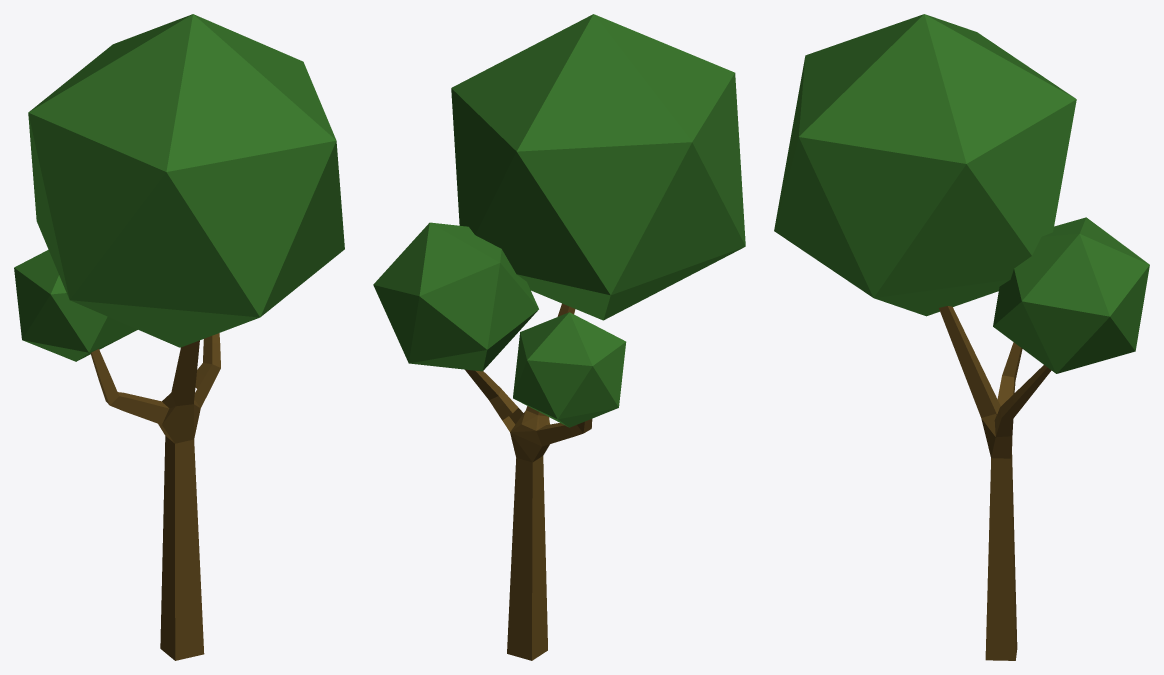
The model's file is TREE1.fbx.
3 renders of one model, left to right at view 1: azimuth 30°, elevation 25°; view 2: azimuth 150°, elevation 25°; view 3: azimuth 270°, elevation 25°, orthographic. The views are drawn at different scales.
Visible parts, largest first — view 1: Icosphere.013, Cube.002, Icosphere.014; view 2: Icosphere.013, Icosphere.012, Cube.002, Icosphere.014; view 3: Icosphere.013, Icosphere.012, Cube.002.
Boxes of the visible parts, x1=… form: Icosphere.013: x1=28, y1=14, x2=344, y2=347; Cube.002: x1=90, y1=333, x2=220, y2=660; Icosphere.014: x1=14, y1=250, x2=137, y2=361; Icosphere.013: x1=451, y1=14, x2=745, y2=320; Icosphere.012: x1=373, y1=222, x2=538, y2=371; Cube.002: x1=465, y1=303, x2=592, y2=660; Icosphere.014: x1=513, y1=312, x2=626, y2=427; Icosphere.013: x1=774, y1=14, x2=1076, y2=316; Icosphere.012: x1=993, y1=217, x2=1149, y2=373; Cube.002: x1=939, y1=306, x2=1051, y2=660.
Size of the model in its own units: 457 by 1032 by 561.
